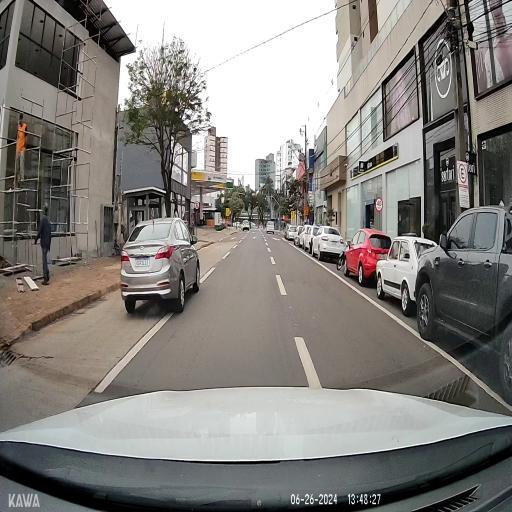R-19: (375, 198, 383, 211)
R-6a: (195, 201, 199, 210)
R-6b: (458, 163, 466, 184)
